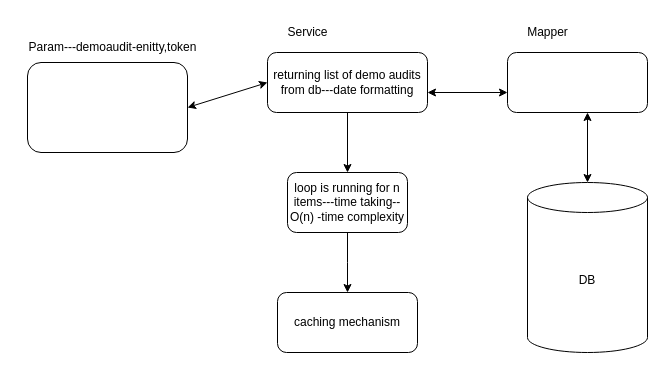
Image size: 665x370. Some labels were removed from this diagram. The shapes that lost their labels are listed below. From the top down, each one's centre as x and y in pixels, then its label:
[577,82]: SP
[107,107]: getmangeaudits
